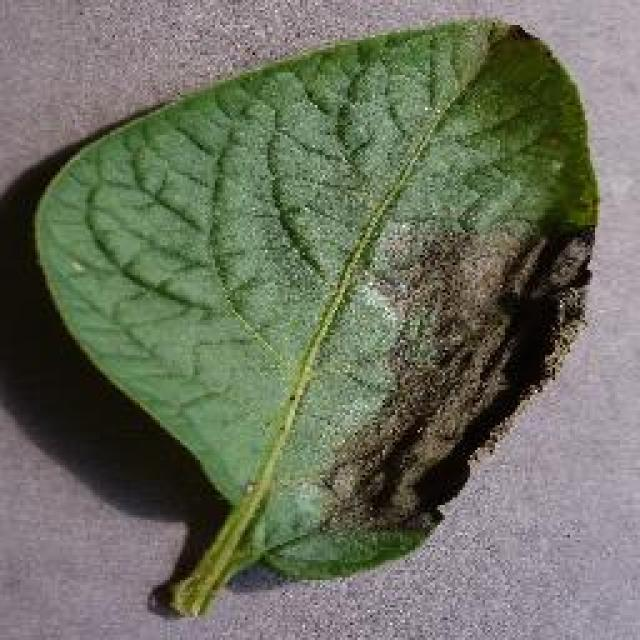late_blight: (28, 12, 602, 618)
